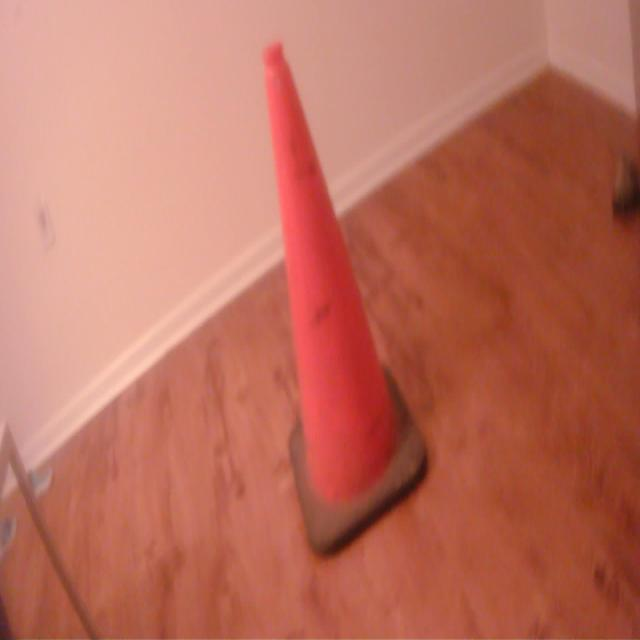traffic cone: (261, 36, 435, 565)
